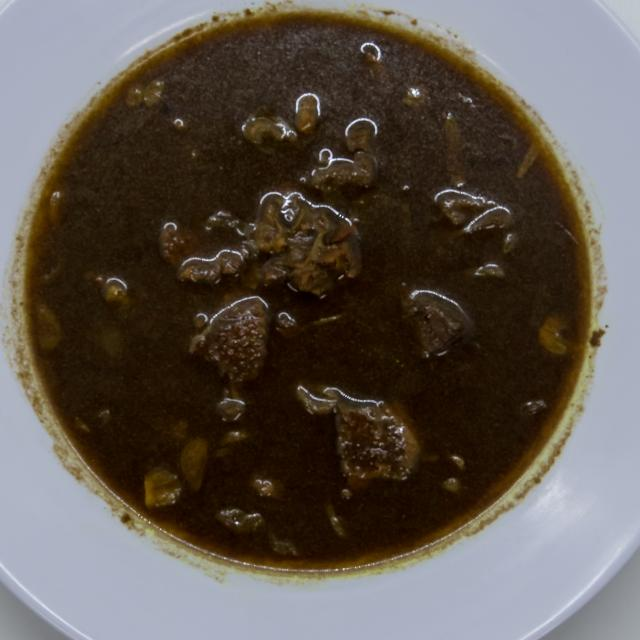Rawon-Surabaya: (24, 3, 609, 579)
